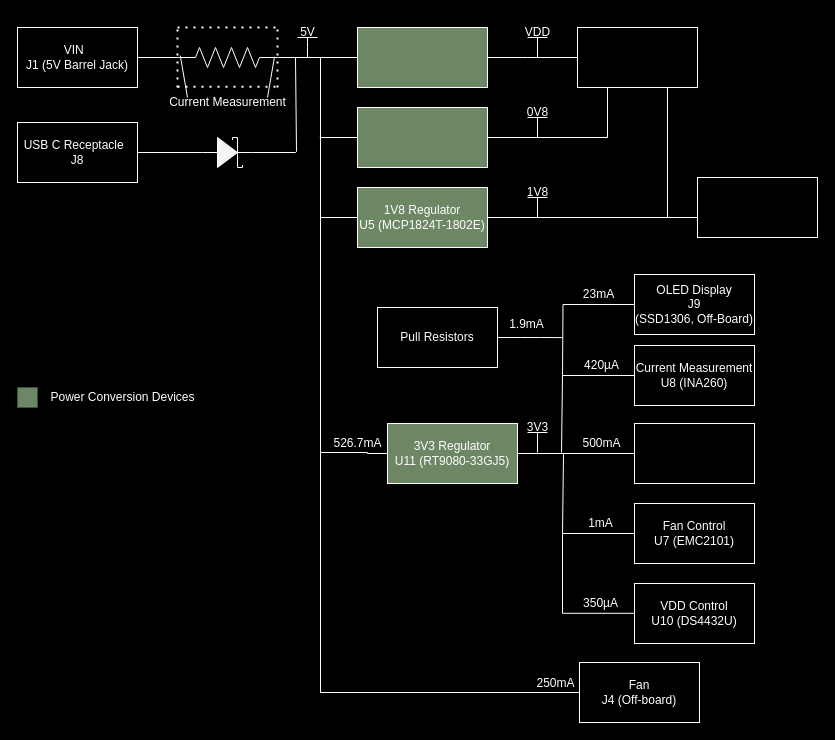
Image size: 835x740. Some labels were removed from this diagram. The centre of each missing label's shape, as x and y in pixels:
0V8 Regulator U6 (MCP1824T-0802E): pixel 422 137
25 MHz Oscillator U1: pixel 757 207
Bitcoin ASIC U14 (BM1366): pixel 637 57
Microcontroller U12 (ESP32-S3): pixel 694 453
VDD Buck Converter U9 (~1.2V, TPS40305): pixel 422 57
